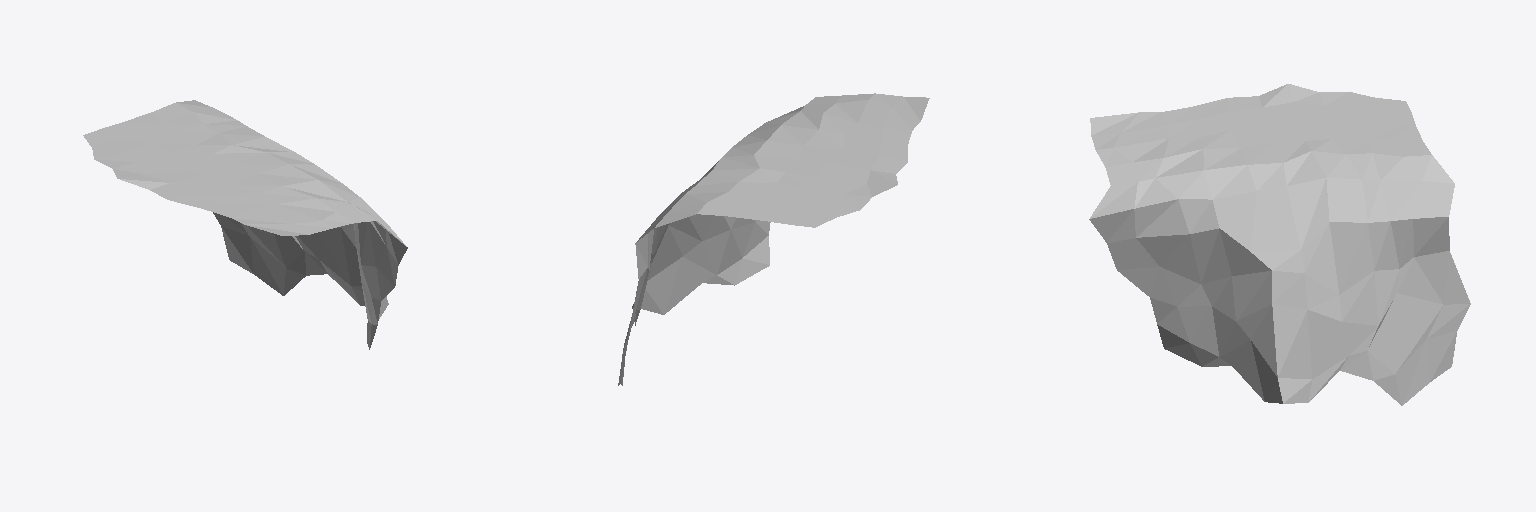
The model's file is MSH_env_grass-hanging-b.obj.
3 views of the same model, side by side, from view 1: azimuth 30°, elevation 25°; view 2: azimuth 150°, elevation 25°; view 3: azimuth 270°, elevation 25° (orthographic).
Parts seen in each view (by area): view 1: MSH_env_grass_hanging_b group4; view 2: MSH_env_grass_hanging_b group4; view 3: MSH_env_grass_hanging_b group4.
Boxes of the visible parts, box(x1,y1,x2,y2) form: MSH_env_grass_hanging_b group4: box(83, 100, 407, 349); MSH_env_grass_hanging_b group4: box(618, 93, 929, 385); MSH_env_grass_hanging_b group4: box(1089, 84, 1470, 405).
Bounding box in the file's own units: 22.55 × 17.16 × 27.78.